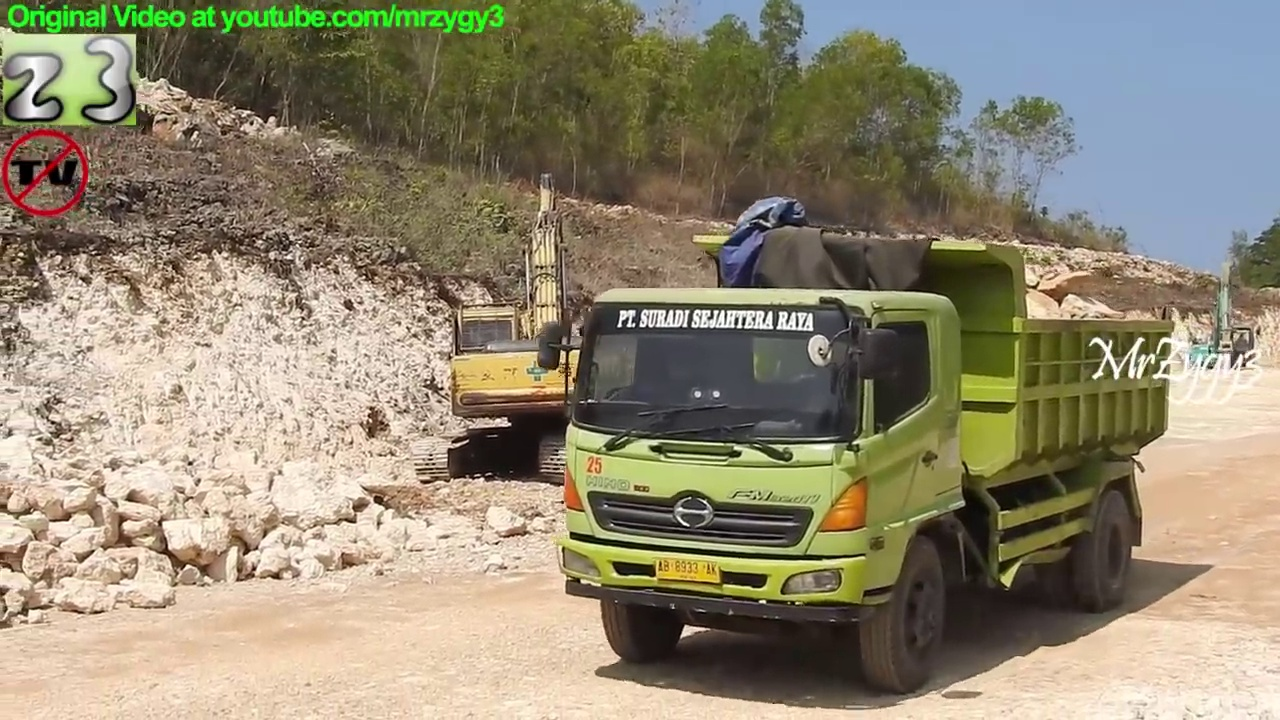excavator: (407, 165, 655, 493), (1185, 254, 1261, 381)
truck: (529, 220, 1184, 702)
